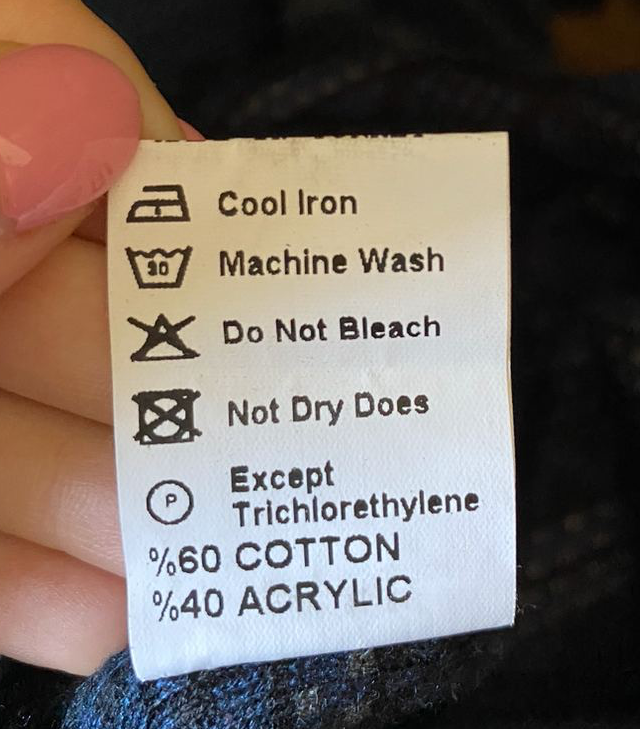do_not_bleach: (122, 304, 205, 368)
do_not_tumble_drying: (130, 380, 203, 447)
dry_clean_tetrachloroethylene_pce_only: (144, 471, 199, 530)
ironing_at_low_temp: (120, 169, 200, 230)
wash_at_or_below_30: (122, 240, 199, 291)
